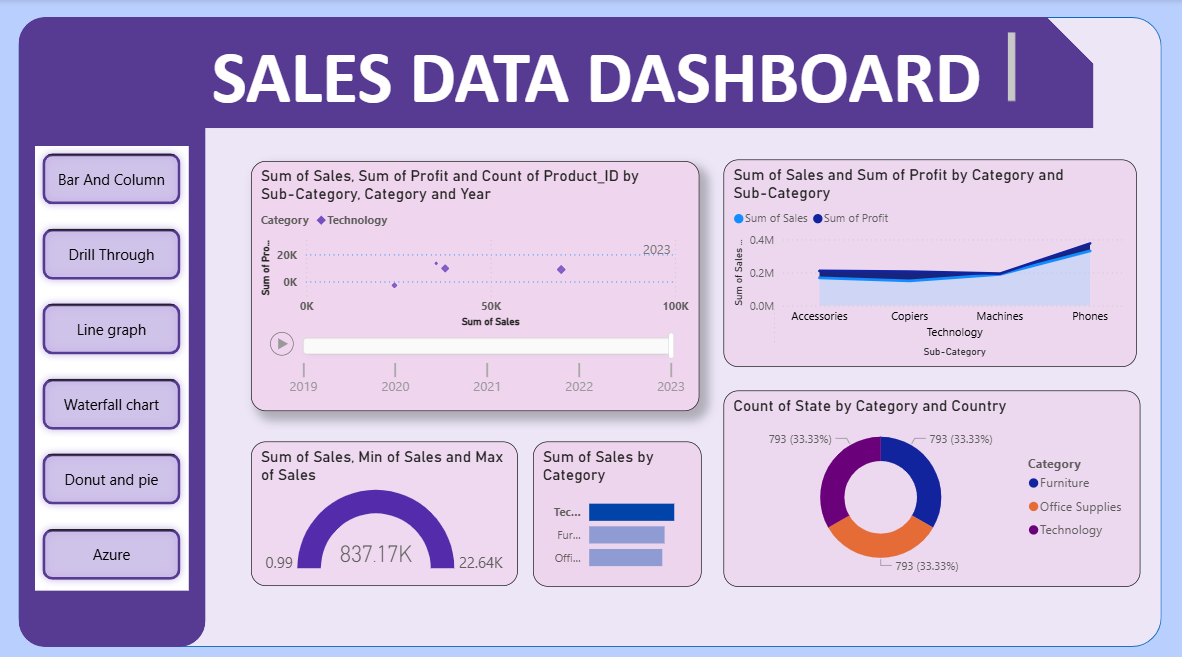

Layout of this report page (visuals, bound fields, positions):
{"tool":"powerbi","page":{"name":"Dashboard","canvas":[1280,720],"ordinal":6},"visuals":[{"type":"shape","box":[24,20,1234,680],"z":0},{"type":"pageNavigator","box":[105,310,1000,50],"z":1000},{"type":"stackedAreaChart","fields":{"Category":["Product Data.Category","Product Data.Sub-Category"],"Y":["Sum(Total Sales og.Sales)","Sum(Total Sales og.Profit)"]},"box":[786,174,446,224],"z":2000},{"type":"donutChart","fields":{"Category":["Product Data.Category"],"Y":["CountNonNull(Customer Data.State)"],"Series":["Customer Data.Country"]},"box":[786,422,450,212],"z":3000},{"type":"gauge","fields":{"Y":["Sum(Total Sales og.Sales)"],"MinValue":["Min(Total Sales og.Sales)"],"MaxValue":["Max(Total Sales og.Sales)"]},"box":[276,478,288,156],"z":4000},{"type":"shape","box":[24,20,202,680],"z":5000},{"type":"pageNavigator","box":[42.9,158.6,165.7,480],"z":6000},{"type":"shape","box":[57,20,1128,120],"z":7000},{"type":"textbox","box":[228,31,877,95],"z":8000},{"type":"scatterChart","fields":{"Category":["Product Data.Sub-Category"],"X":["Sum(Total Sales og.Sales)"],"Y":["Sum(Total Sales og.Profit)"],"Series":["Product Data.Category"],"Size":["CountNonNull(Product Data.Product_ID)"],"Play":["Total Sales og.Order Date.Variation.Date Hierarchy.Year"]},"box":[275.8,174.2,484.2,270],"z":9000},{"type":"barChart","fields":{"Category":["Product Data.Category"],"Y":["Sum(Total Sales og.Sales)"]},"box":[580,478.3,181.7,156.7],"z":10000}]}

Visuals, with their boxes in screenshot pixels (x1, y1, x2, y2), scaled from the page's 1280x720 canvas onto the 1182x657 screenshot:
shape: x1=22, y1=18, x2=1162, y2=639
pageNavigator: x1=97, y1=283, x2=1020, y2=328
stackedAreaChart - Product Data.Category x Product Data.Sub-Category: x1=726, y1=159, x2=1138, y2=363
donutChart - Product Data.Category x CountNonNull(Customer Data.State): x1=726, y1=385, x2=1141, y2=579
gauge - Sum(Total Sales og.Sales) x Min(Total Sales og.Sales): x1=255, y1=436, x2=521, y2=579
shape: x1=22, y1=18, x2=209, y2=639
pageNavigator: x1=40, y1=145, x2=193, y2=583
shape: x1=53, y1=18, x2=1094, y2=128
textbox: x1=211, y1=28, x2=1020, y2=115
scatterChart - Product Data.Sub-Category x Sum(Total Sales og.Sales): x1=255, y1=159, x2=702, y2=405
barChart - Product Data.Category x Sum(Total Sales og.Sales): x1=536, y1=436, x2=703, y2=579
